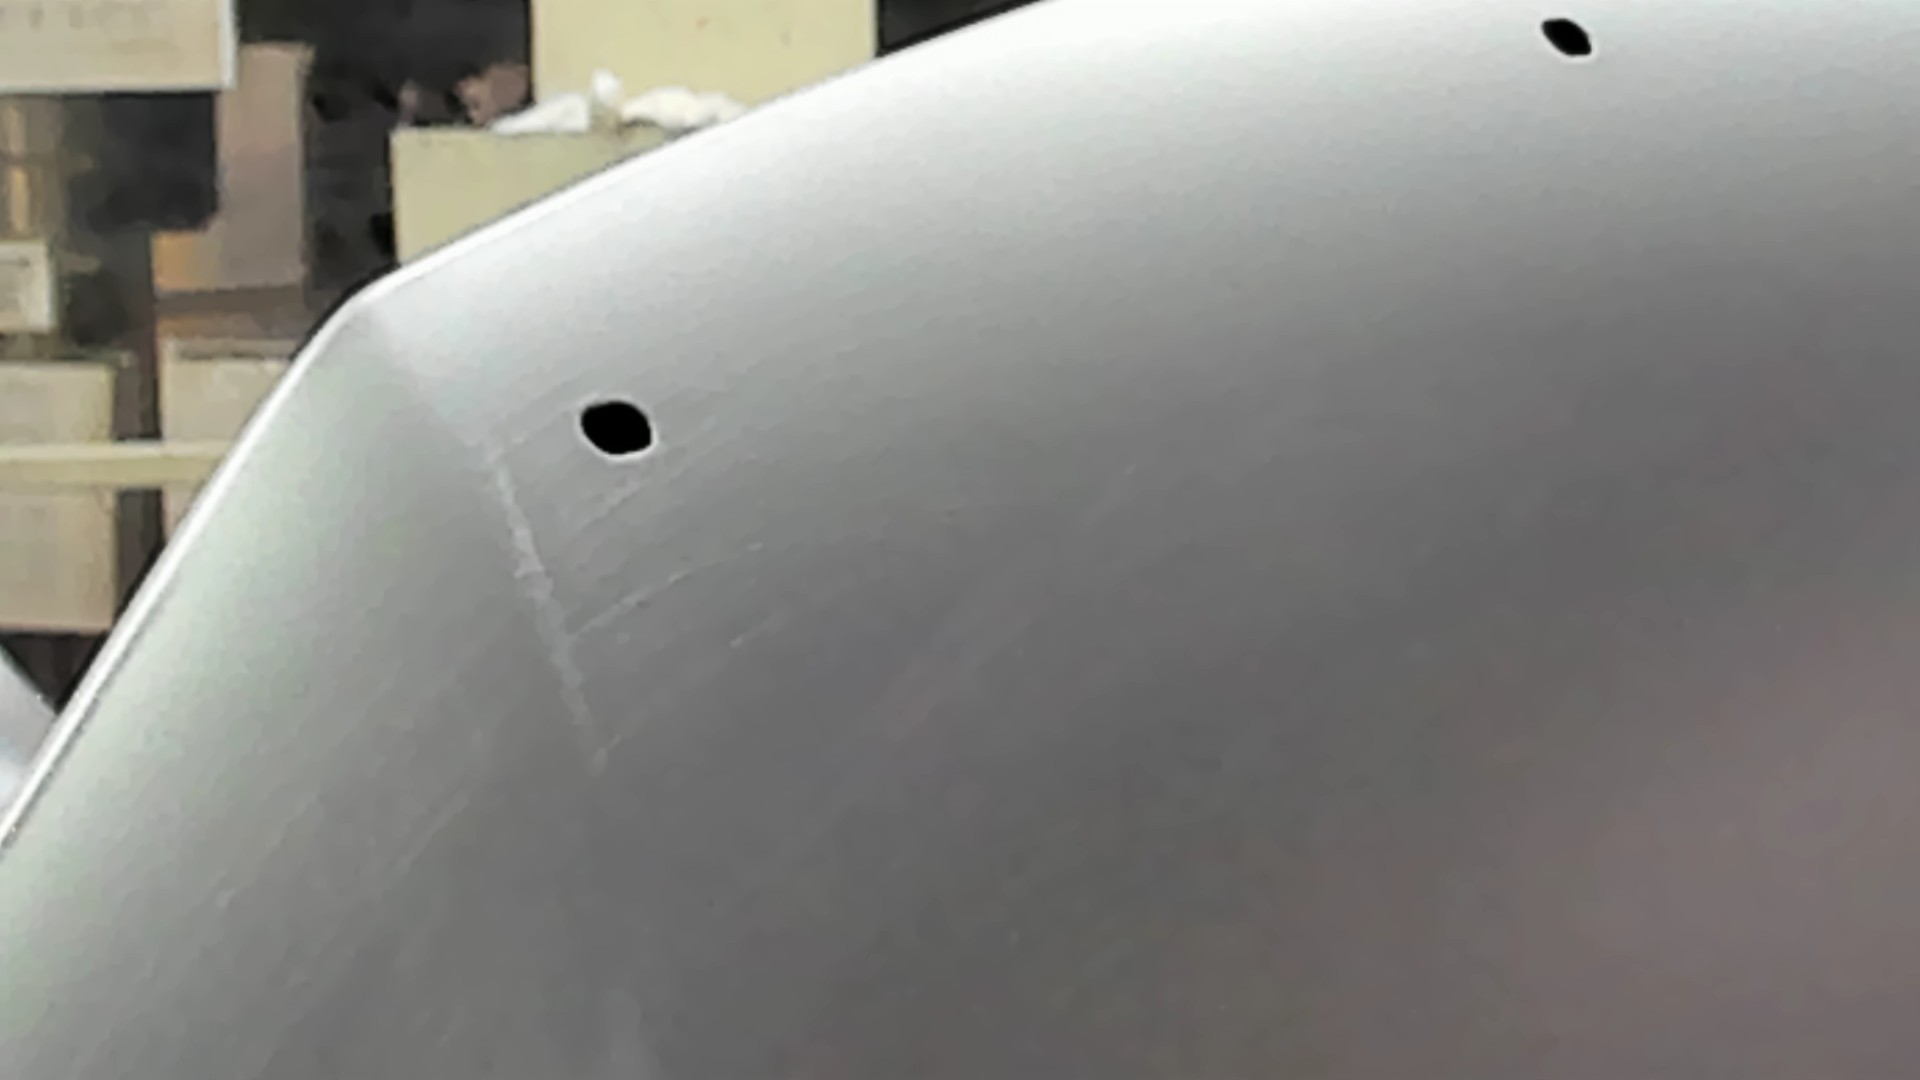amorfo: (574, 394, 655, 465), (1538, 13, 1598, 67)
